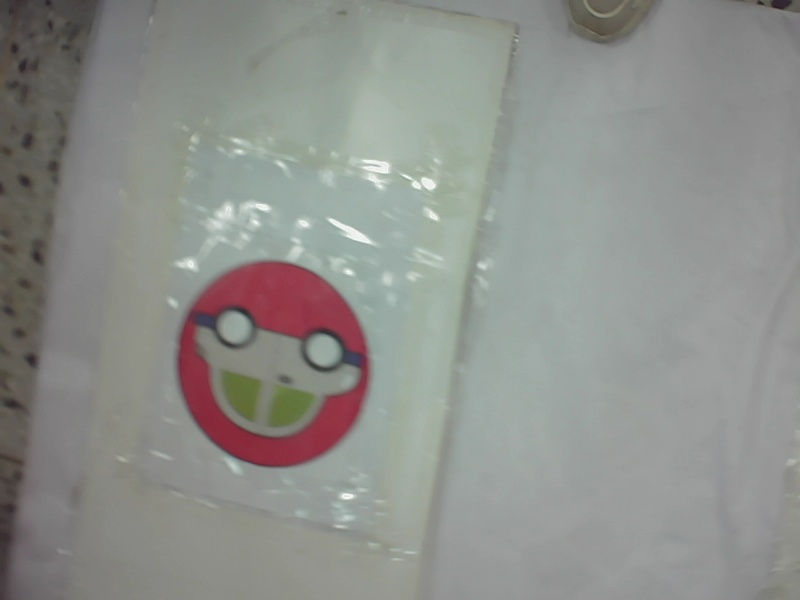areaC: (173, 252, 373, 470)
